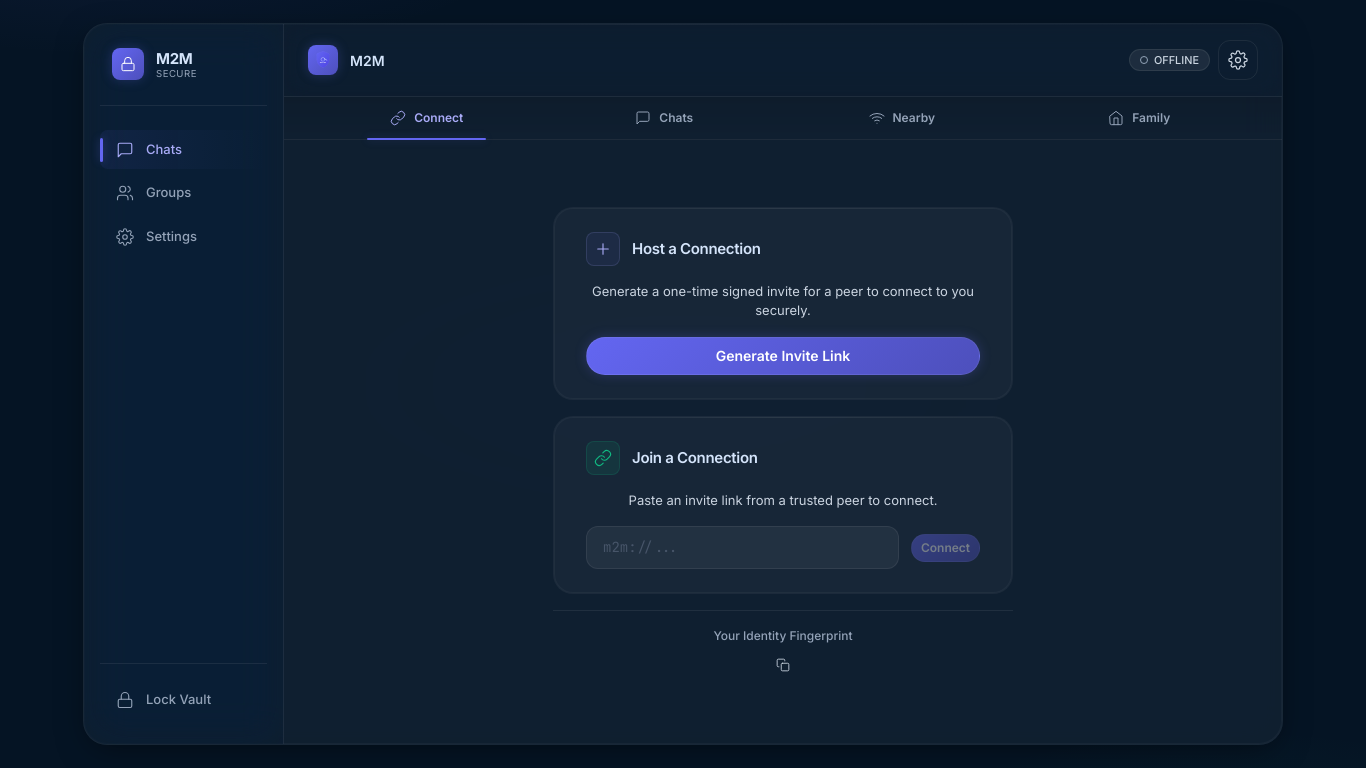
Test case: HubView › records a successfully generated invite in the history list
Click the button "Generate Invite Link" at (783, 356), box [586,337,980,375]
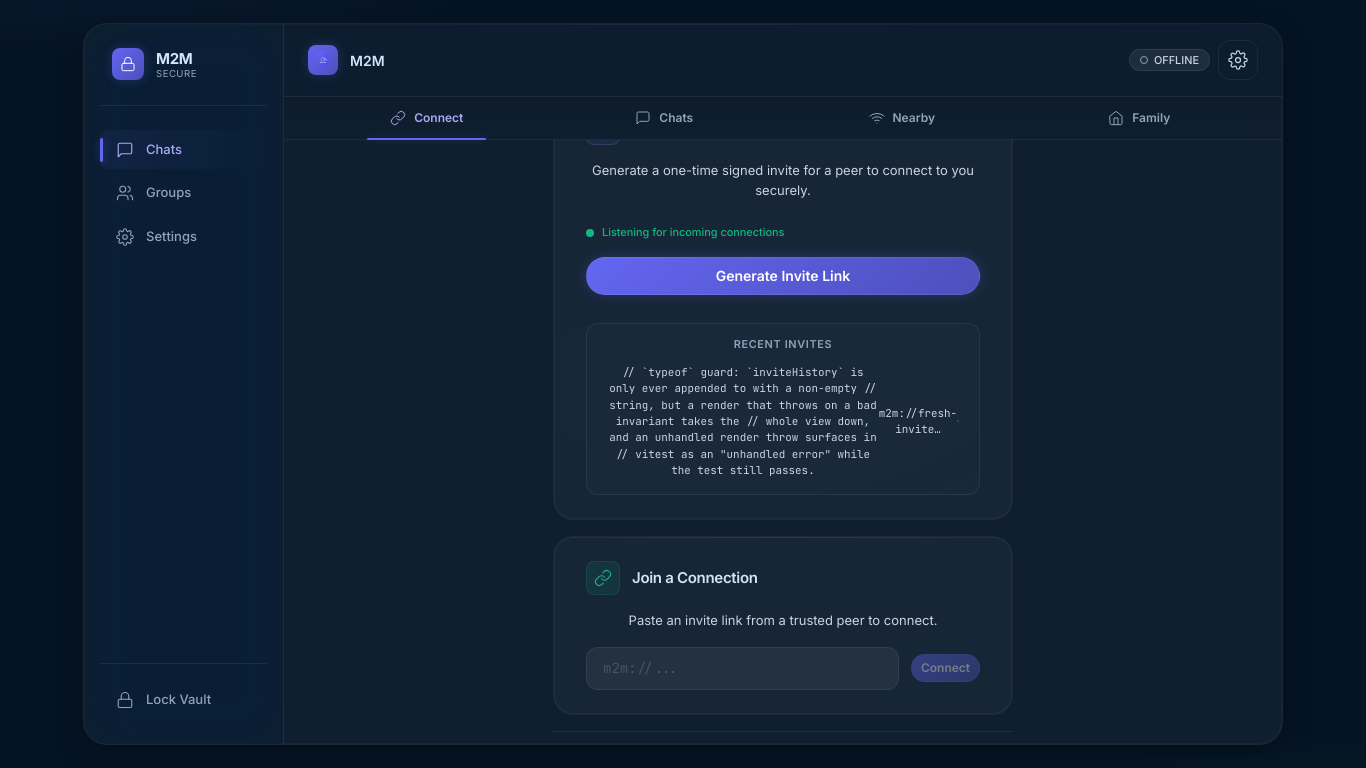
Result: the text "Listening for incoming connections" is shown at [586,225,784,239]
